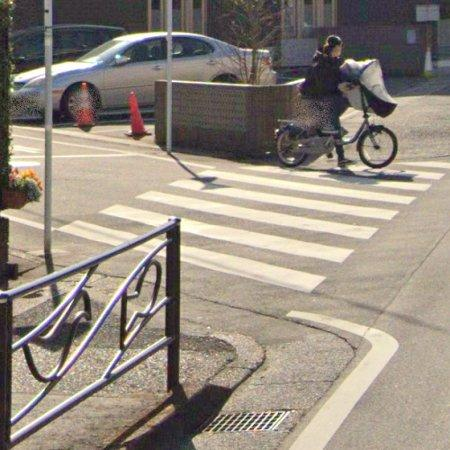stairs: (52, 158, 450, 294)
